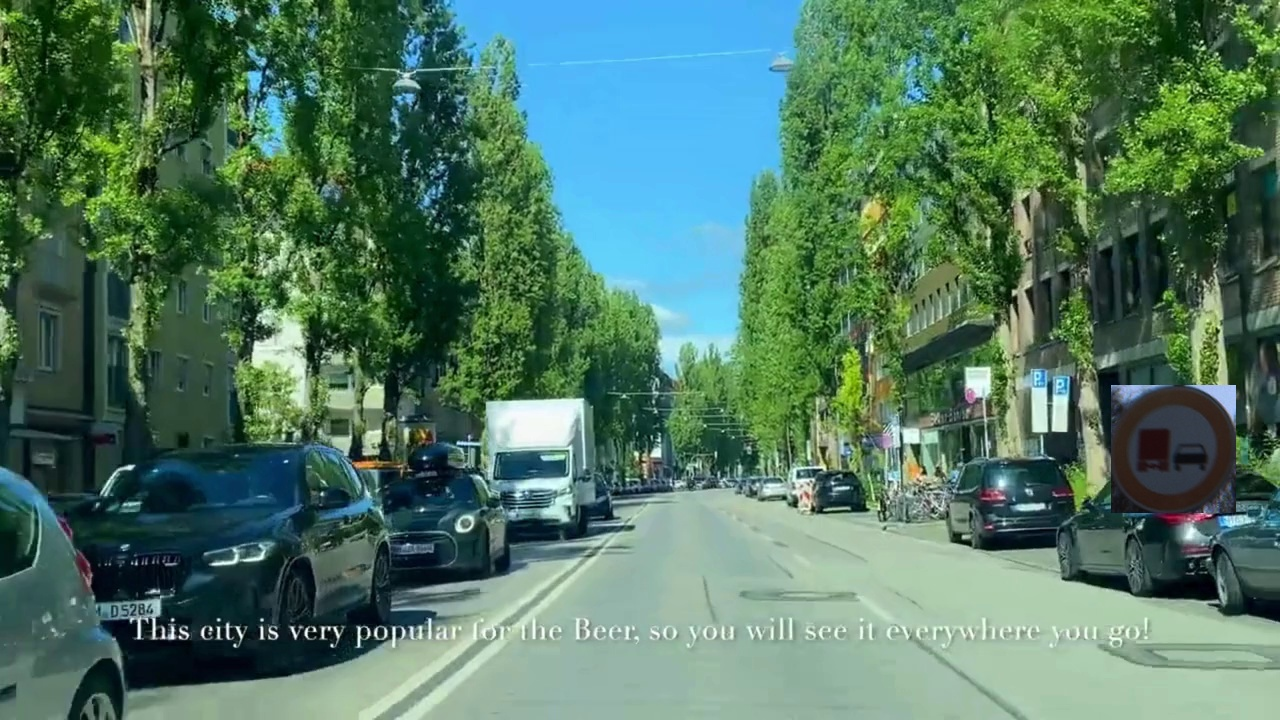No pass >3.5t: (1111, 385, 1236, 513)
